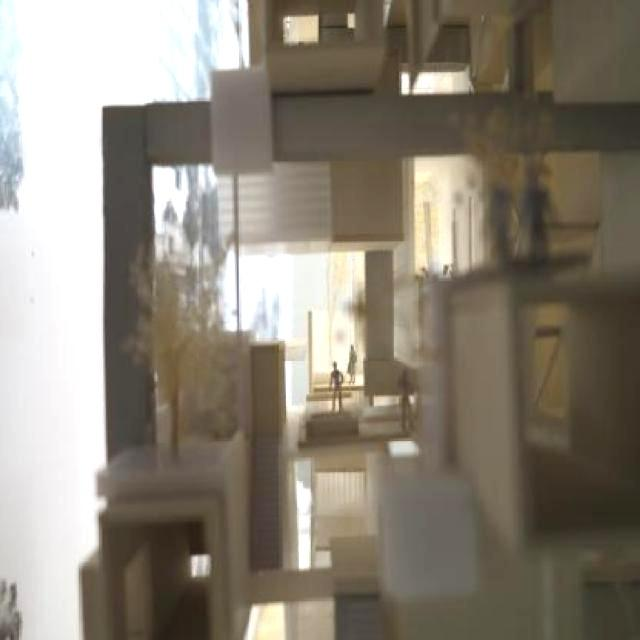stair: (249, 432, 283, 570), (346, 592, 392, 640)
